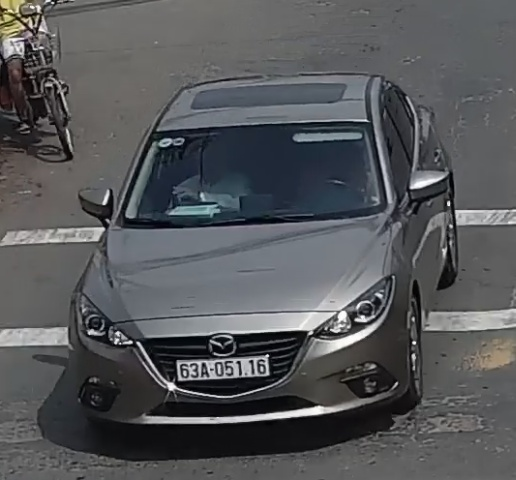vehicle plate: (163, 351, 287, 382)
